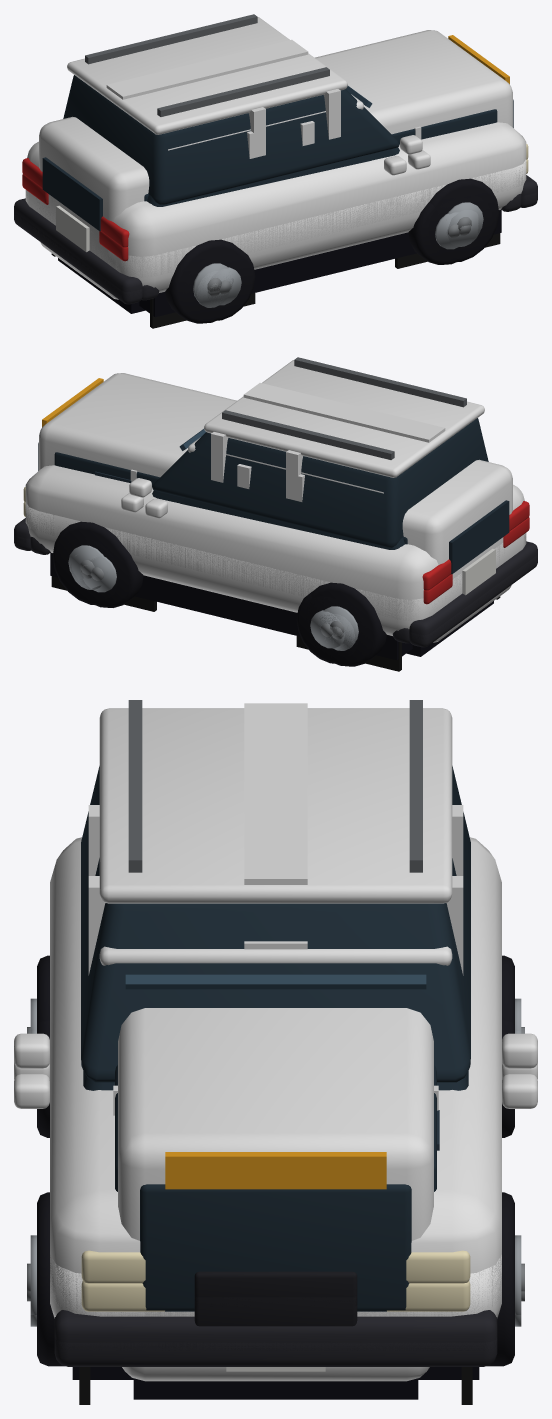
File: cars.glb
3 renders of one model, top to bottom at view 1: azimuth 30°, elevation 25°; view 2: azimuth 150°, elevation 25°; view 3: azimuth 270°, elevation 25°, orthographic. The views are drawn at different scales.
Visible parts, largest first — view 1: suv_paint, suv_fix, bus_paint, sedan_fix, sedan_paint, hatch_fix, hatch_paint, bus_fix, suv_stripe; view 2: suv_paint, suv_fix, bus_paint, sedan_paint, hatch_fix, sedan_fix, hatch_paint, bus_fix, suv_stripe; view 3: suv_paint, suv_fix, bus_paint, bus_fix, sedan_fix, sedan_paint, suv_stripe, hatch_fix.
Part boxes in pixels (x1=…): suv_paint: x1=25, y1=17, x2=526, y2=277; suv_fix: x1=14, y1=14, x2=537, y2=328; bus_paint: x1=39, y1=30, x2=512, y2=299; sedan_fix: x1=14, y1=147, x2=537, y2=327; sedan_paint: x1=25, y1=94, x2=526, y2=292; hatch_fix: x1=141, y1=155, x2=521, y2=324; hatch_paint: x1=168, y1=111, x2=414, y2=282; bus_fix: x1=42, y1=35, x2=513, y2=313; suv_stripe: x1=106, y1=39, x2=308, y2=99; suv_paint: x1=25, y1=360, x2=526, y2=620; suv_fix: x1=14, y1=357, x2=537, y2=671; bus_paint: x1=39, y1=373, x2=512, y2=642; sedan_paint: x1=25, y1=437, x2=526, y2=635; hatch_fix: x1=30, y1=498, x2=410, y2=667; sedan_fix: x1=14, y1=490, x2=537, y2=670; hatch_paint: x1=54, y1=454, x2=383, y2=621; bus_fix: x1=38, y1=378, x2=509, y2=656; suv_stripe: x1=243, y1=383, x2=445, y2=442; suv_paint: x1=14, y1=708, x2=537, y2=1316; suv_fix: x1=27, y1=700, x2=524, y2=1404; bus_paint: x1=113, y1=1008, x2=438, y2=1381; bus_fix: x1=115, y1=1065, x2=439, y2=1399; sedan_fix: x1=27, y1=1071, x2=524, y2=1379; sedan_paint: x1=14, y1=946, x2=537, y2=1318; suv_stripe: x1=244, y1=703, x2=307, y2=884; hatch_fix: x1=30, y1=1020, x2=521, y2=1320.
Size of the model in its own units: 1.03 by 0.4825 by 0.58.
